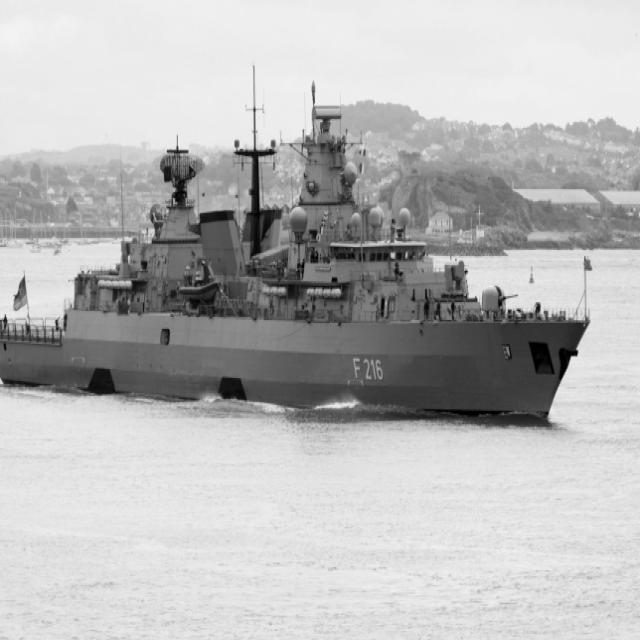Fragata: (1, 59, 598, 435)
